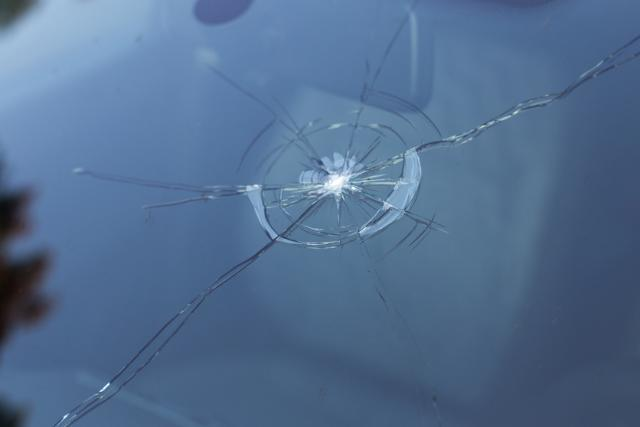Windshield: (63, 5, 636, 424)
